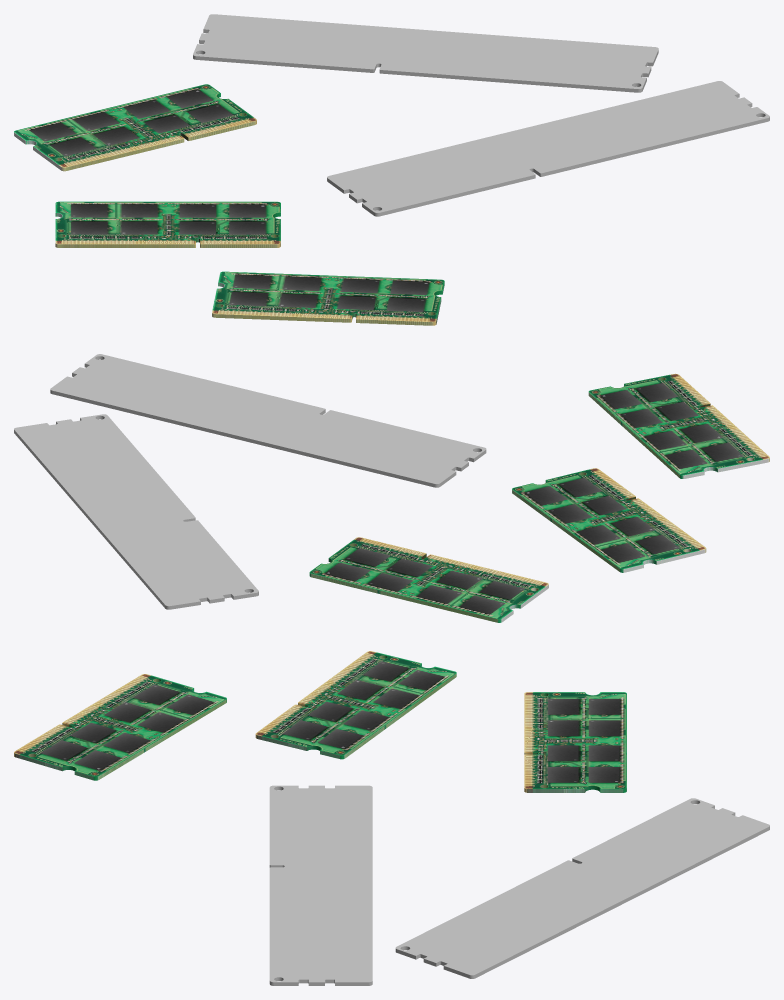
File: RAM.fbx
3 views of the same model, one above another, from view 1: azimuth 30°, elevation 25°; view 2: azimuth 150°, elevation 25°; view 3: azimuth 270°, elevation 25° (orthographic). The views are drawn at different scales.
Visible parts, largest first — view 1: RAM; view 2: RAM; view 3: RAM.
Boxes of the visible parts, box(x1,y1,x2,y2) form: RAM: box(14, 14, 769, 325); RAM: box(14, 354, 769, 622); RAM: box(14, 651, 769, 985).
Bounding box in the file's own units: 0.1904 × 0.001 × 0.1837.
